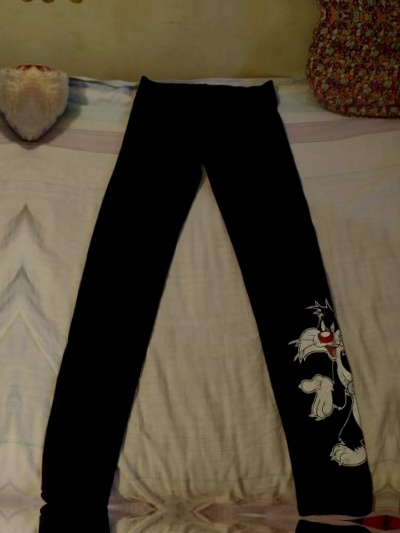Pants: (31, 40, 400, 518), (4, 508, 376, 533), (0, 18, 13, 495), (397, 61, 400, 533), (370, 529, 400, 533)
